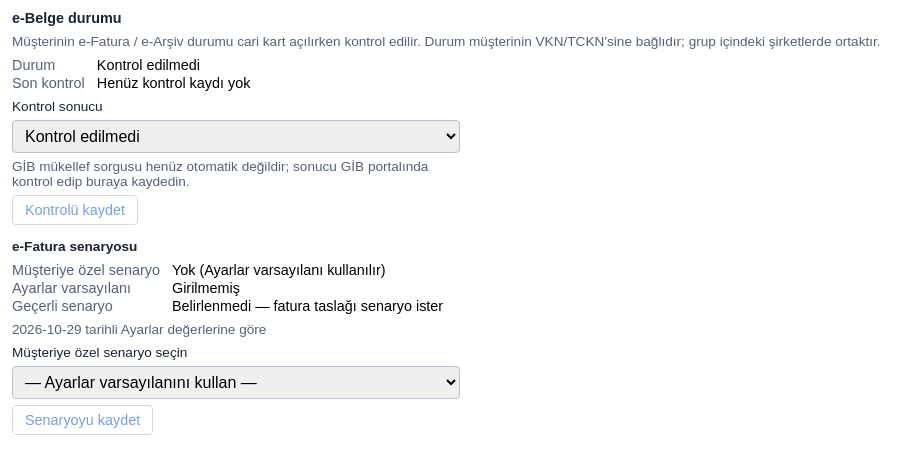
SAT-D102 e-belge panel on the Cari card › names a code the Settings list does not carry (422) and refreshes
Select "CODE_A" in the dropdown labelled "Müşteriye özel senaryo seçin" at (236, 382), box [12,366,460,399]
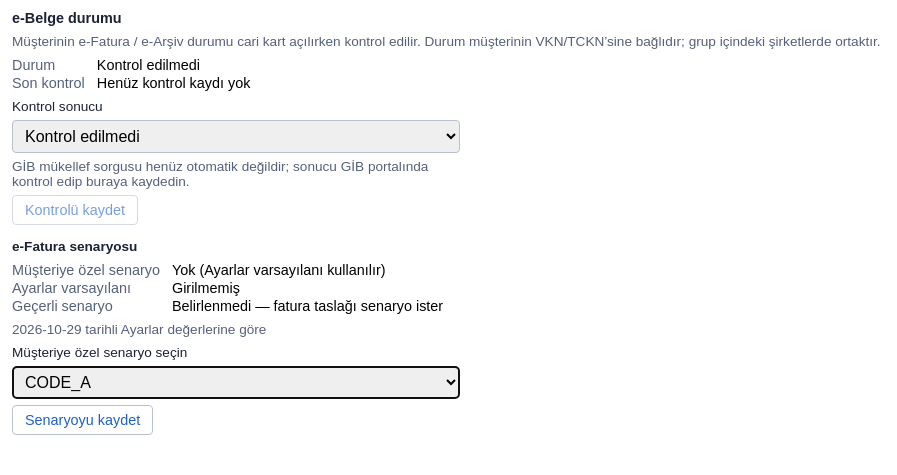
Click the button "Senaryoyu kaydet".
click(83, 420)  # box [12,405,153,435]
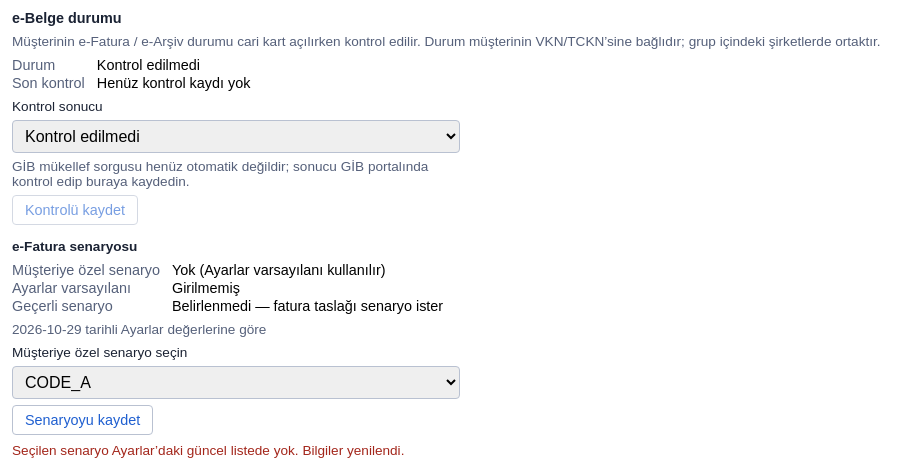
Now the message reads "Seçilen senaryo Ayarlar’daki güncel listede yok. Bilgiler yenilendi.", box [12,443,404,458]
